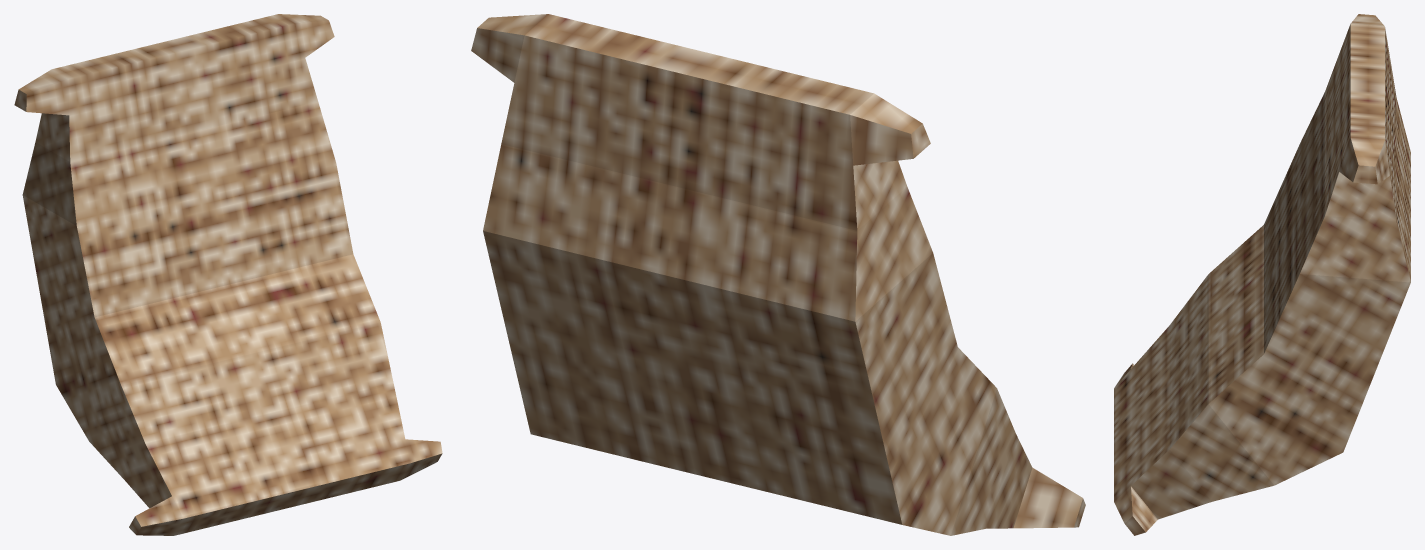
File: SM_Dungeon_Linen_Sack.fbx
The picture shows the model from 3 angles, left to right: view 1: azimuth 30°, elevation 25°; view 2: azimuth 150°, elevation 25°; view 3: azimuth 270°, elevation 25°; orthographic projection. The views are drawn at different scales.
Visible parts, largest first — view 1: SM_Dungeon_Sack; view 2: SM_Dungeon_Sack; view 3: SM_Dungeon_Sack.
Part boxes in pixels (<box>): SM_Dungeon_Sack: <box>14,14,442,535</box>; SM_Dungeon_Sack: <box>471,14,1085,535</box>; SM_Dungeon_Sack: <box>1114,14,1410,535</box>.
Size of the model in its own units: 65.33 by 76.94 by 53.11.
